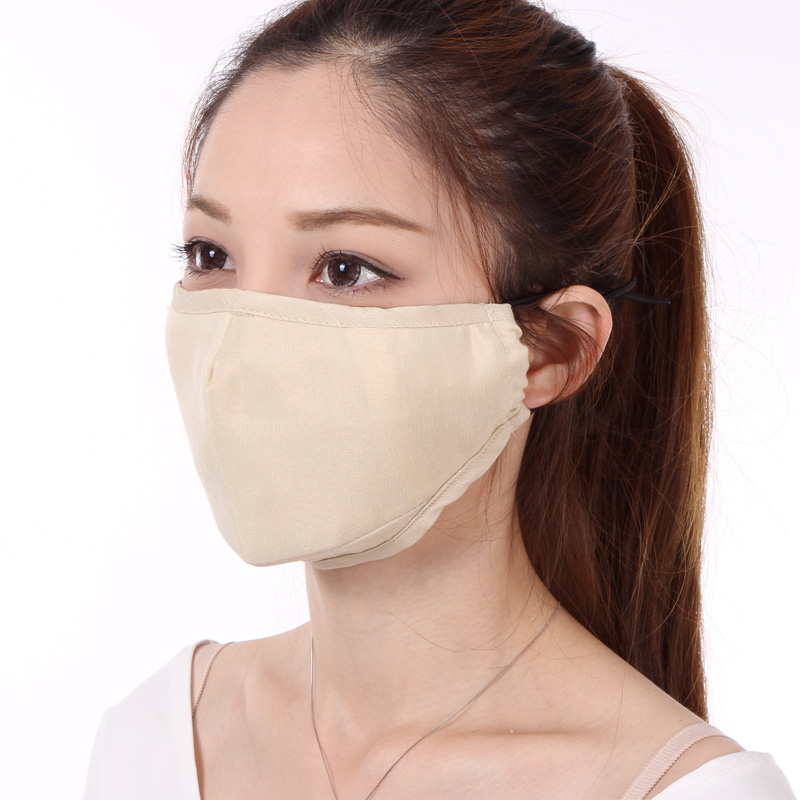face_mask: (161, 61, 497, 552)
